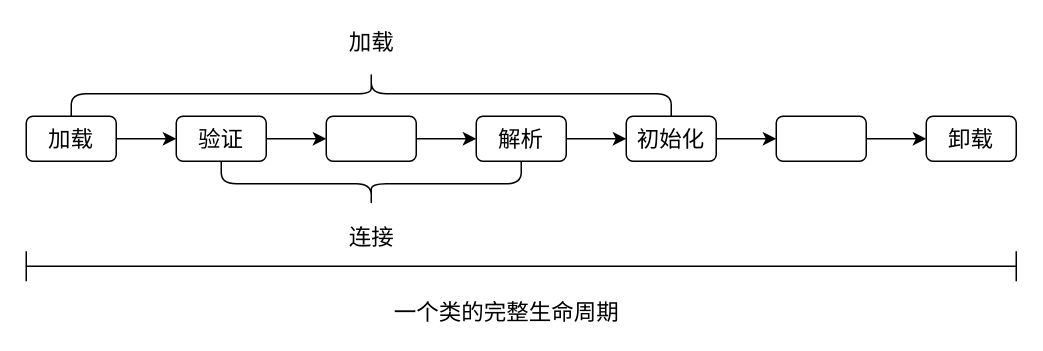
Some shapes in this 1043 by 351 pixel diagram are drawn without their labels. The shapes that lost their labels are listed below. From the top down, each one's box as (x1, y1, x2, y2) in pixels, then its label:
(325, 115, 416, 161): 准备
(775, 115, 866, 161): 使用
